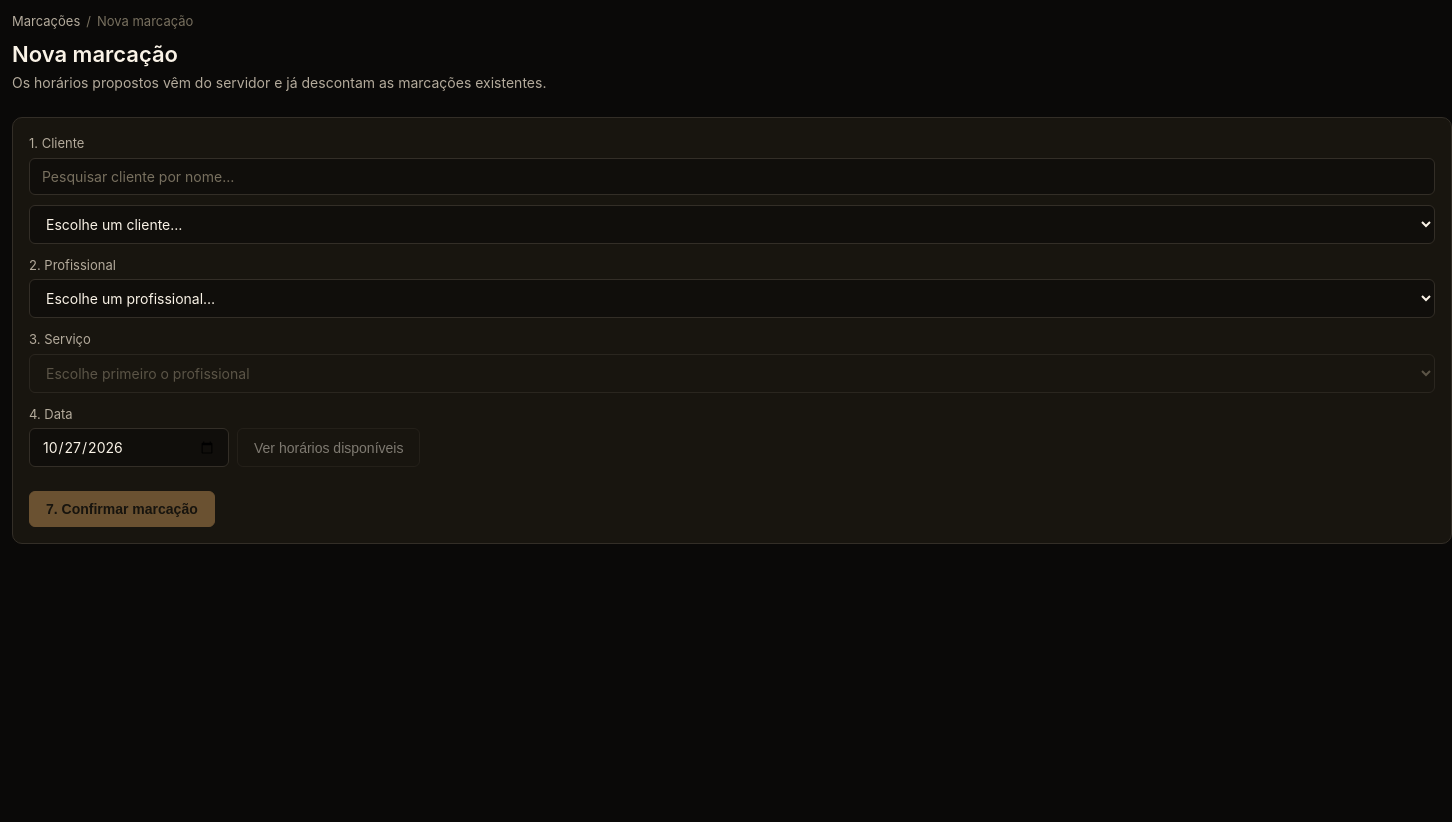
it: New appointment flow › confirm is disabled until a slot is selected
The image size is (1452, 822).
Select "João Silva" in the dropdown labelled "1. Cliente": [732, 224] box [29,205,1435,244]
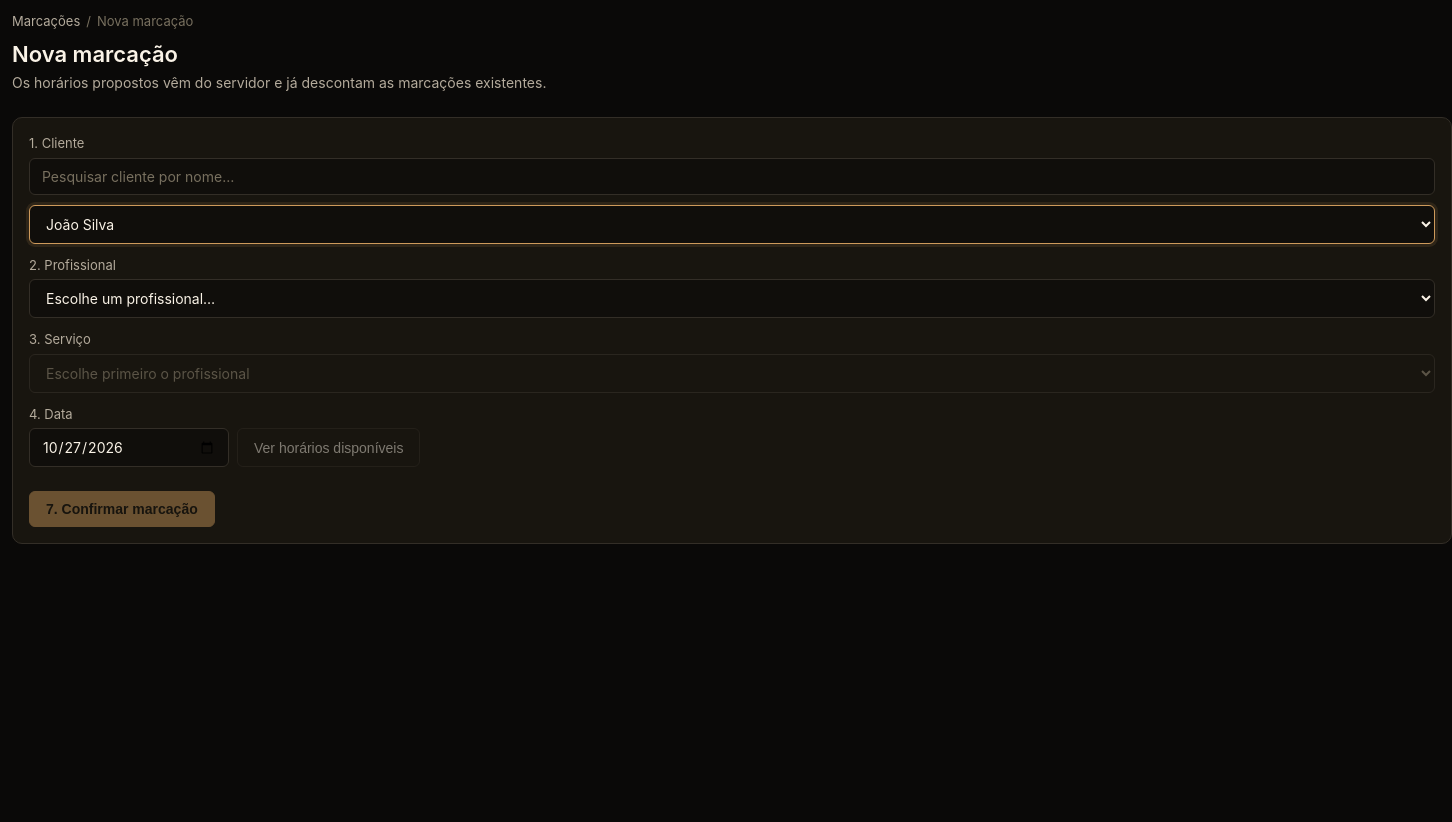
Select "Ana Costa" in the dropdown labelled "2. Profissional": [732, 299] box [29,279,1435,318]
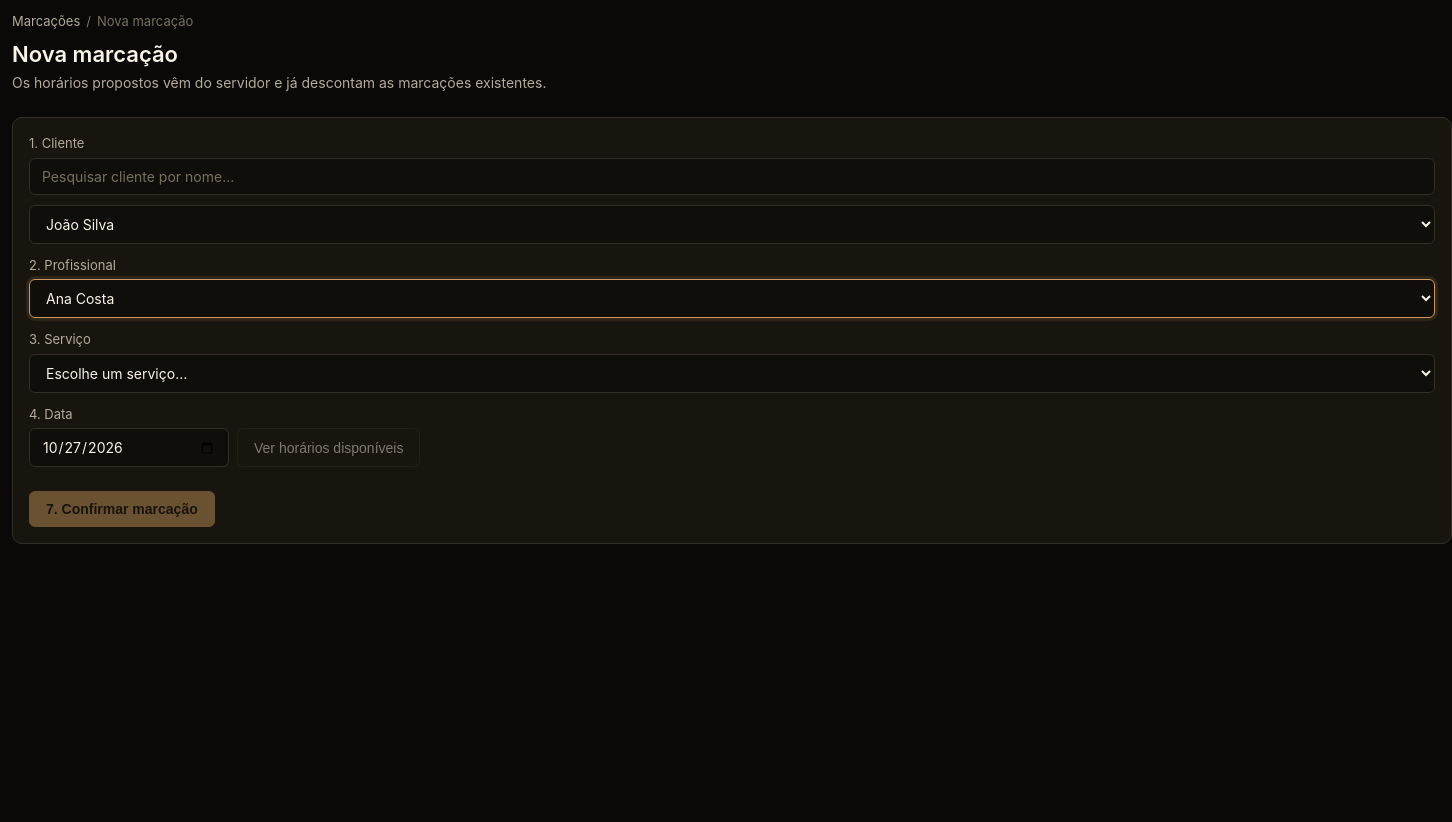
Select "Personal Training — 60 min — 10 000,00 Kz" in the dropdown labelled "3. Serviço": [732, 373] box [29,354,1435,393]
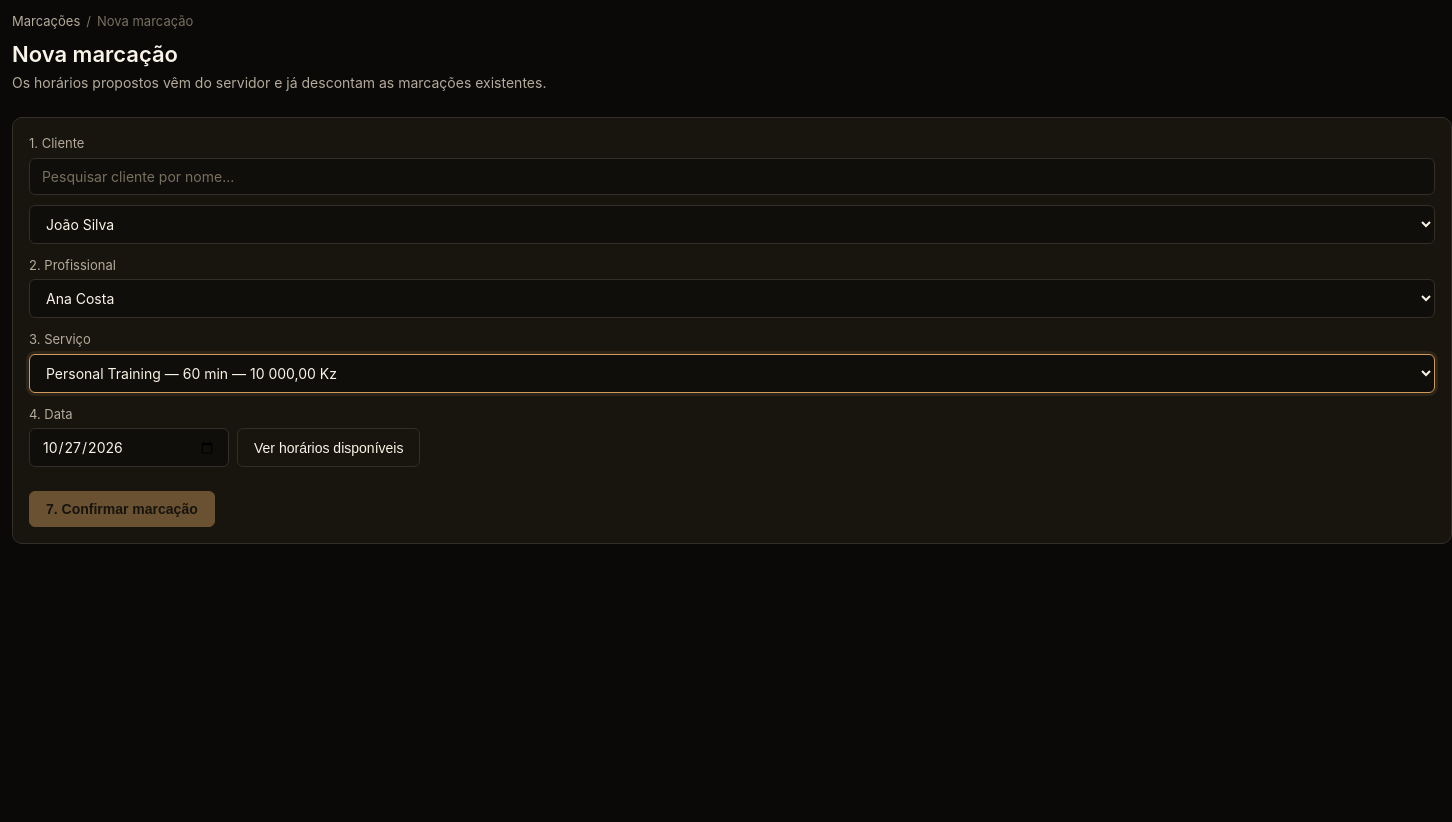
In the date field labelled "4. Data": [129, 448] box [29,428,229,467], type "2026-10-05"
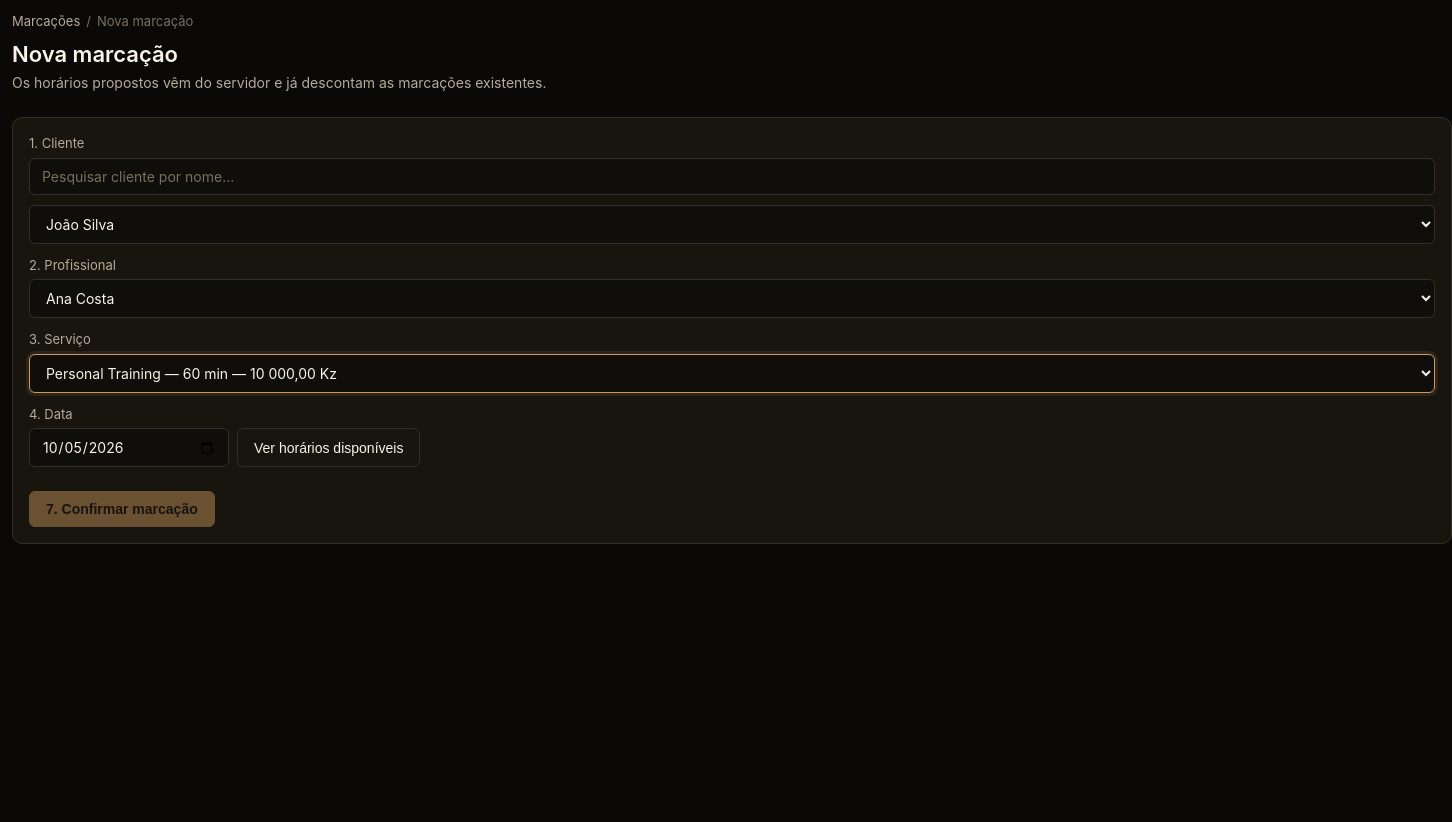
Click the button "Ver horários disponíveis": [329, 448] box [237,428,420,467]
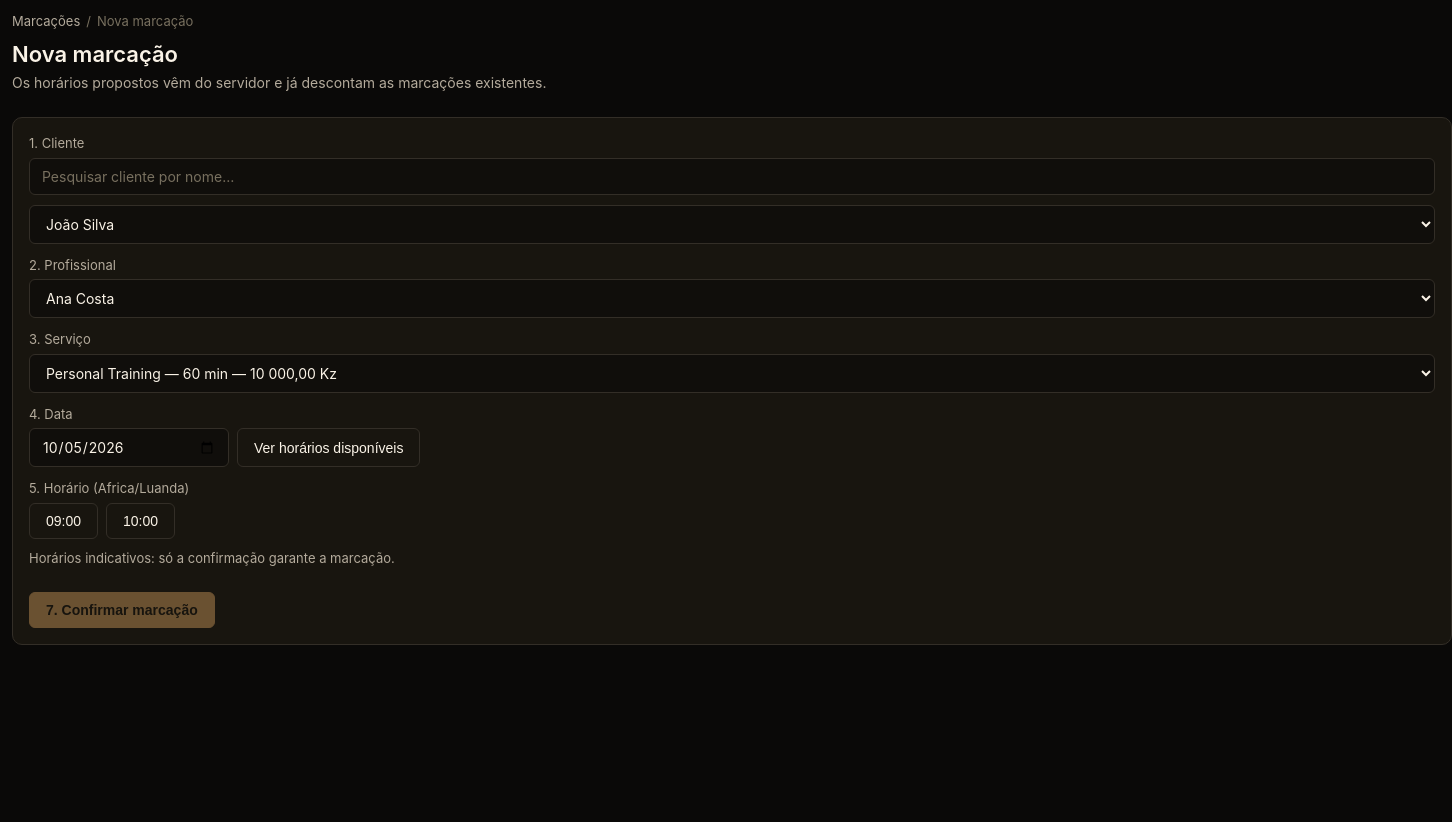
Expected: the button "7. Confirmar marcação" is disabled, [29,592,215,628]
Now the radio button labelled "09:00" is shown, box [29,503,98,539]
